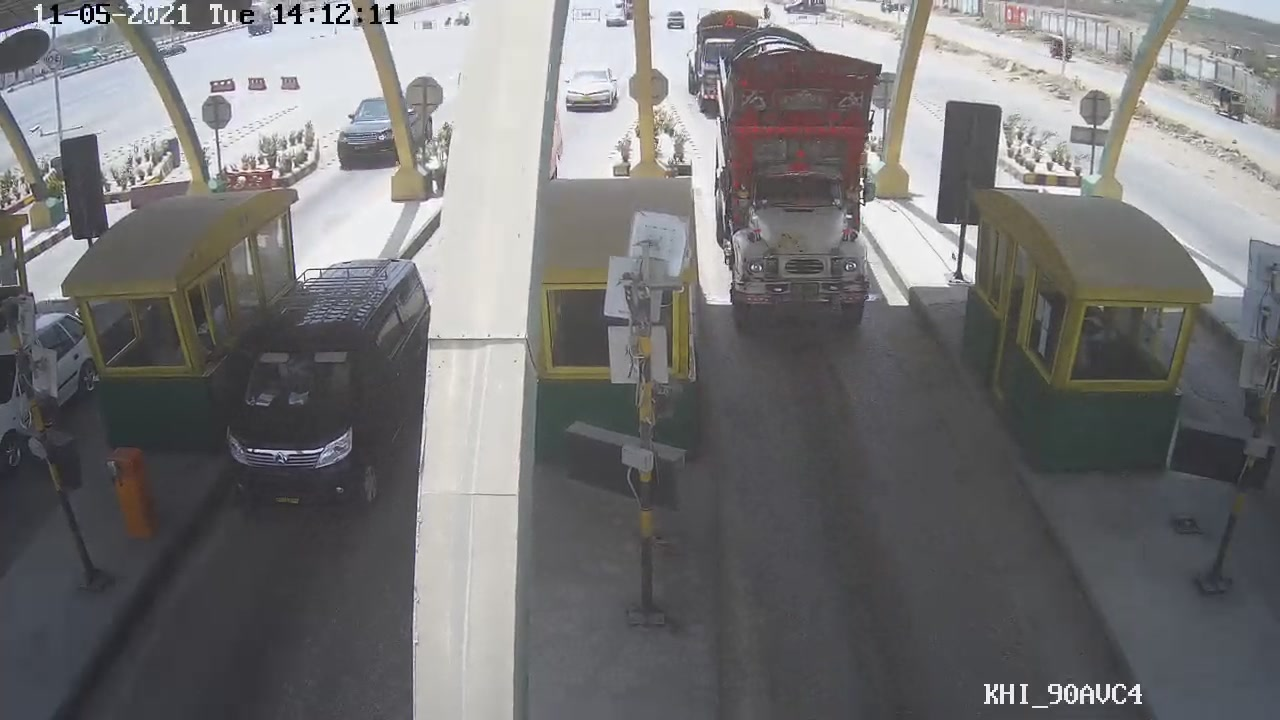F5: (702, 46, 894, 340)
